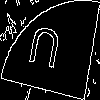U: (24, 24, 63, 78)
